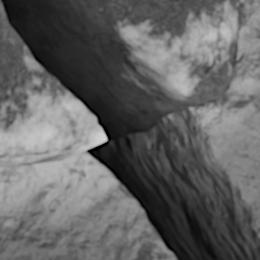broken_brick: (0, 4, 104, 168), (98, 0, 239, 107)
crack: (0, 0, 259, 259)
